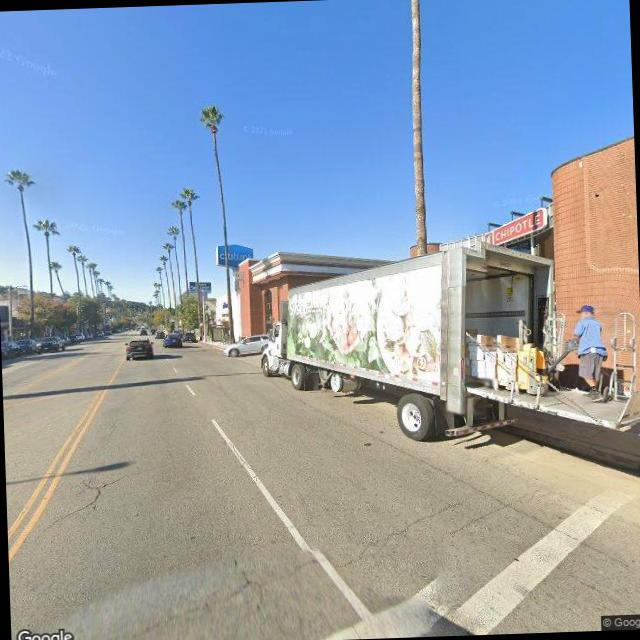crack: (63, 494, 466, 640), (29, 465, 147, 533), (447, 486, 536, 536)
